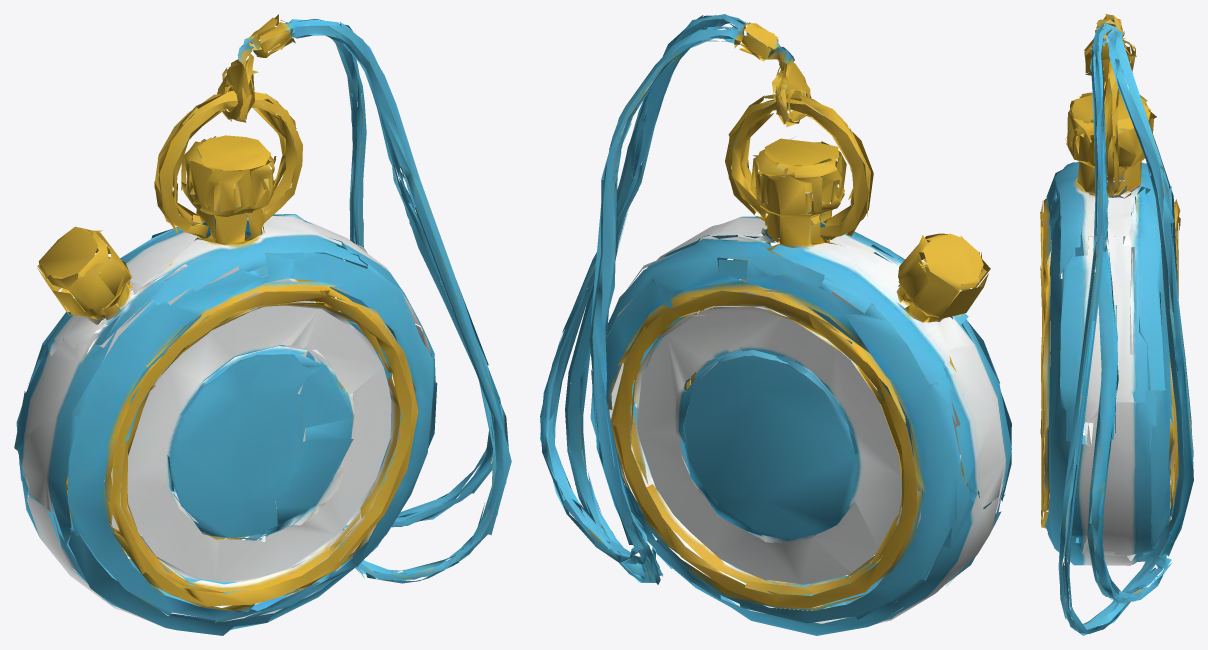
The model's file is gear_freeze_necklace.glb.
3 views of the same model, side by side, from view 1: azimuth 30°, elevation 25°; view 2: azimuth 150°, elevation 25°; view 3: azimuth 270°, elevation 25° (orthographic). The views are drawn at different scales.
Visible parts, largest first — view 1: gear_freeze_necklace; view 2: gear_freeze_necklace; view 3: gear_freeze_necklace.
Boxes of the visible parts, x1,y1,x2,y2 form: gear_freeze_necklace: [14, 14, 511, 635]; gear_freeze_necklace: [540, 14, 1011, 635]; gear_freeze_necklace: [1040, 14, 1193, 635].
Size of the model in its own units: 0.4086 by 0.503 by 0.1253.
Materials: 1 (1 with a texture image).
